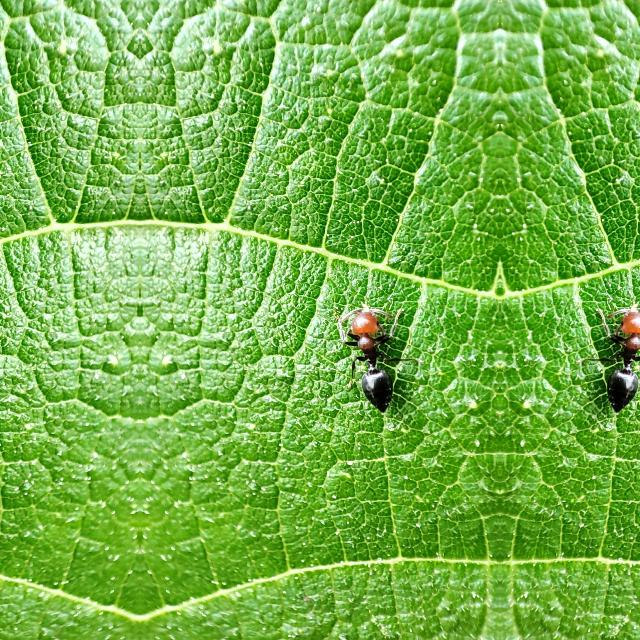Crematogaster: (336, 308, 400, 417), (599, 307, 640, 416)
